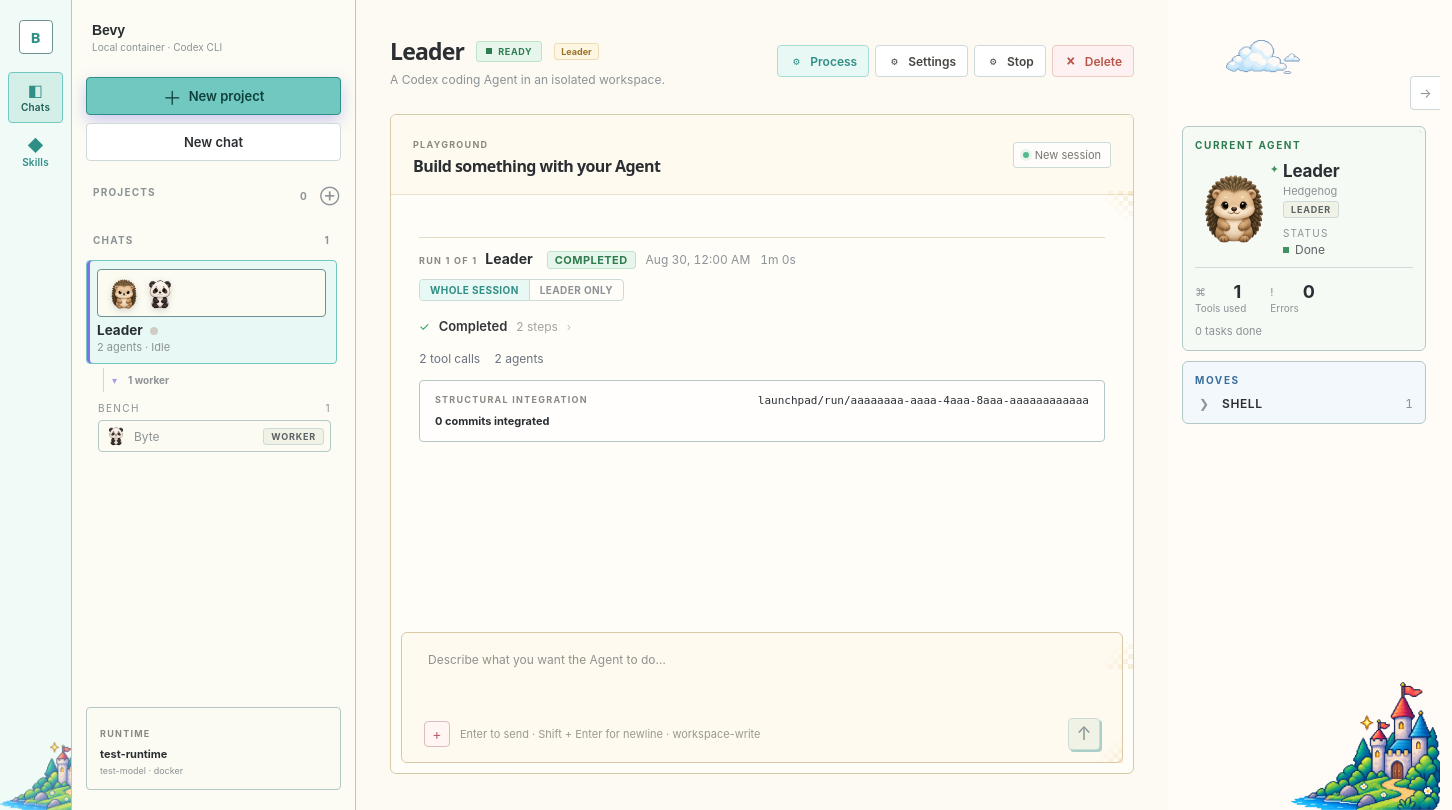
the agent panel › is opened from a button that keeps its place in the header
Check: the heading "Leader" next to "ready" is shown, box [390, 35, 464, 67]
Check: the element with class "rail" is shown, box [1168, 0, 1440, 809]
Click the button "Process".
click(823, 61)  # box [777, 45, 869, 77]
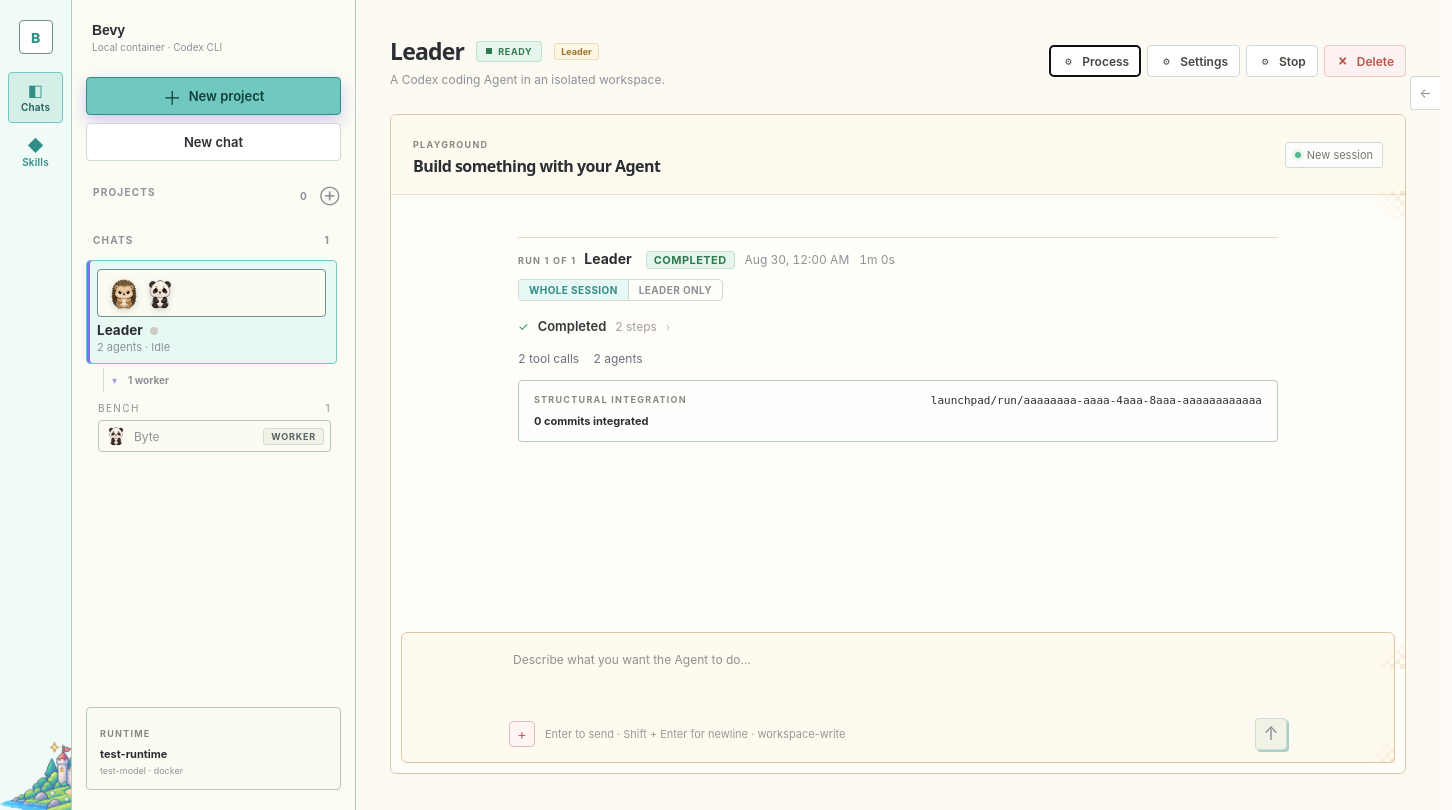
Check: the element with class "rail" is gone
Note: The control that brings it back is the same control, in the same place.
Click the button "Process".
click(1095, 61)  # box [1049, 45, 1141, 77]
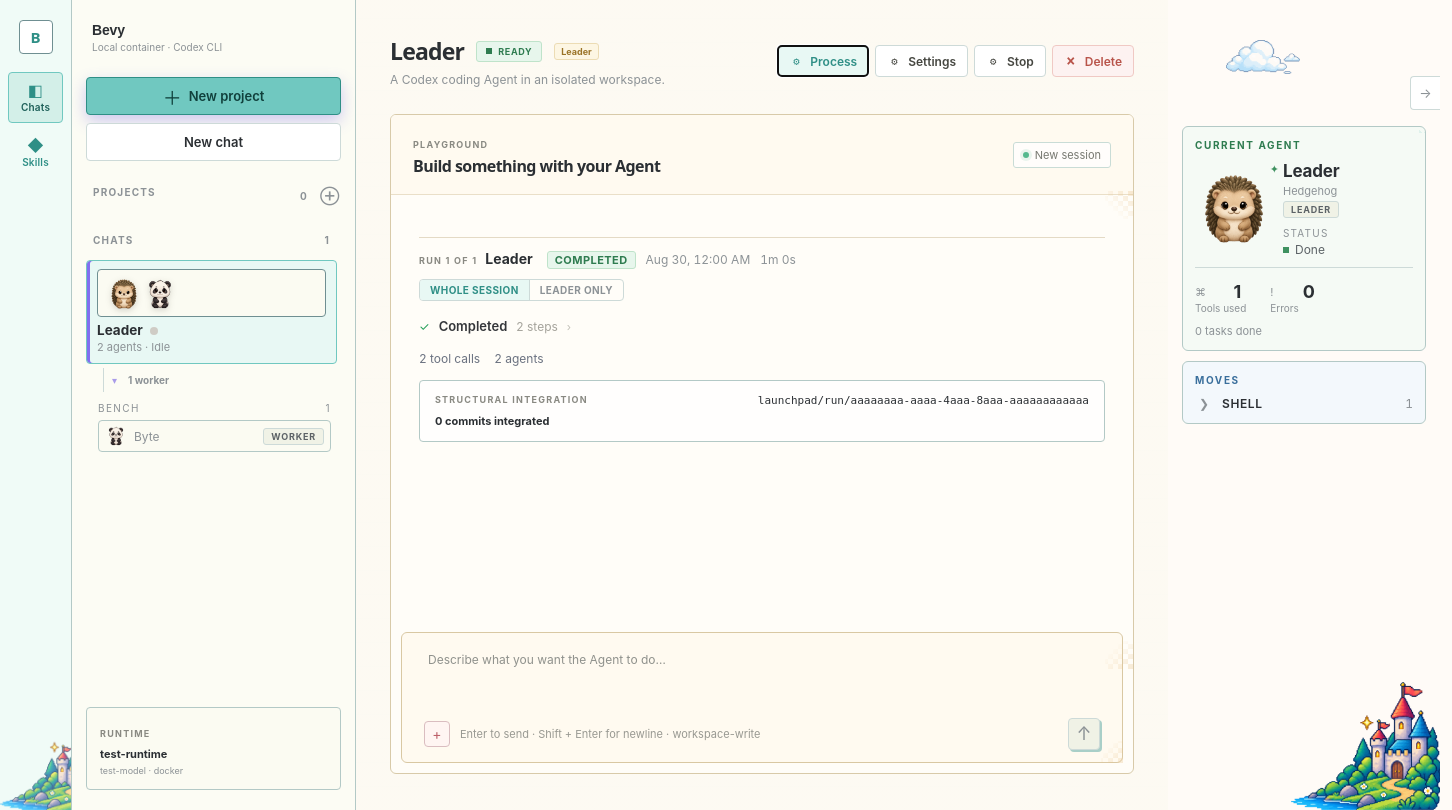
Check: the element with class "rail" is shown, box [1168, 0, 1440, 809]
